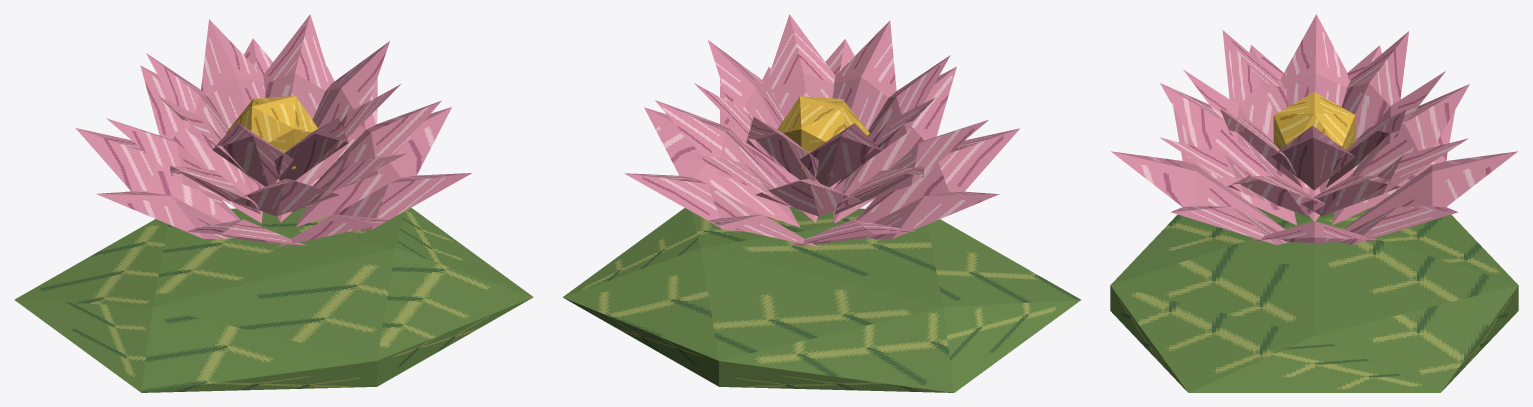
The model's file is flor-lotus-v01.gltf.
3 views of the same model, side by side, from view 1: azimuth 30°, elevation 25°; view 2: azimuth 150°, elevation 25°; view 3: azimuth 270°, elevation 25° (orthographic).
Visible parts, largest first — view 1: folha-flutuante, petalas, miolo; view 2: folha-flutuante, petalas, miolo; view 3: folha-flutuante, petalas, miolo.
Part boxes in pixels (x1=…): folha-flutuante: x1=14, y1=206, x2=533, y2=392; petalas: x1=75, y1=14, x2=471, y2=246; miolo: x1=225, y1=96, x2=318, y2=169; folha-flutuante: x1=562, y1=207, x2=1080, y2=392; petalas: x1=624, y1=14, x2=1019, y2=247; miolo: x1=777, y1=96, x2=870, y2=169; folha-flutuante: x1=1110, y1=206, x2=1518, y2=392; petalas: x1=1111, y1=14, x2=1517, y2=244; miolo: x1=1273, y1=92, x2=1355, y2=150.
Bounding box in the file's own units: 0.7486 × 0.4583 × 0.6805.
1 material, 1 textured.
